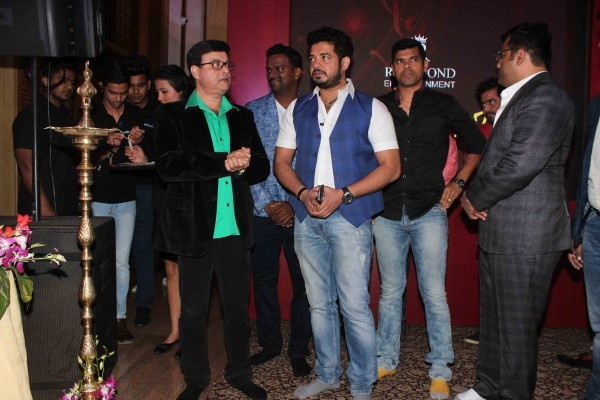bad: (301, 46, 337, 82), (389, 50, 425, 86), (201, 54, 237, 90), (257, 54, 293, 90)
